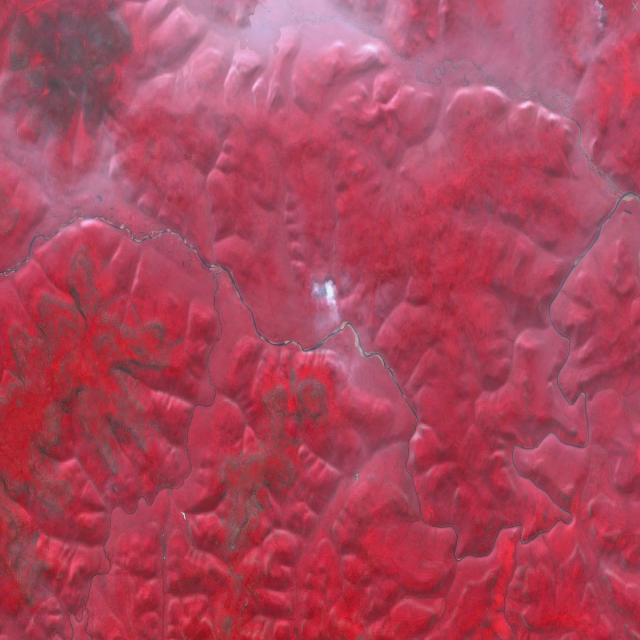fire: (246, 192, 452, 424)
